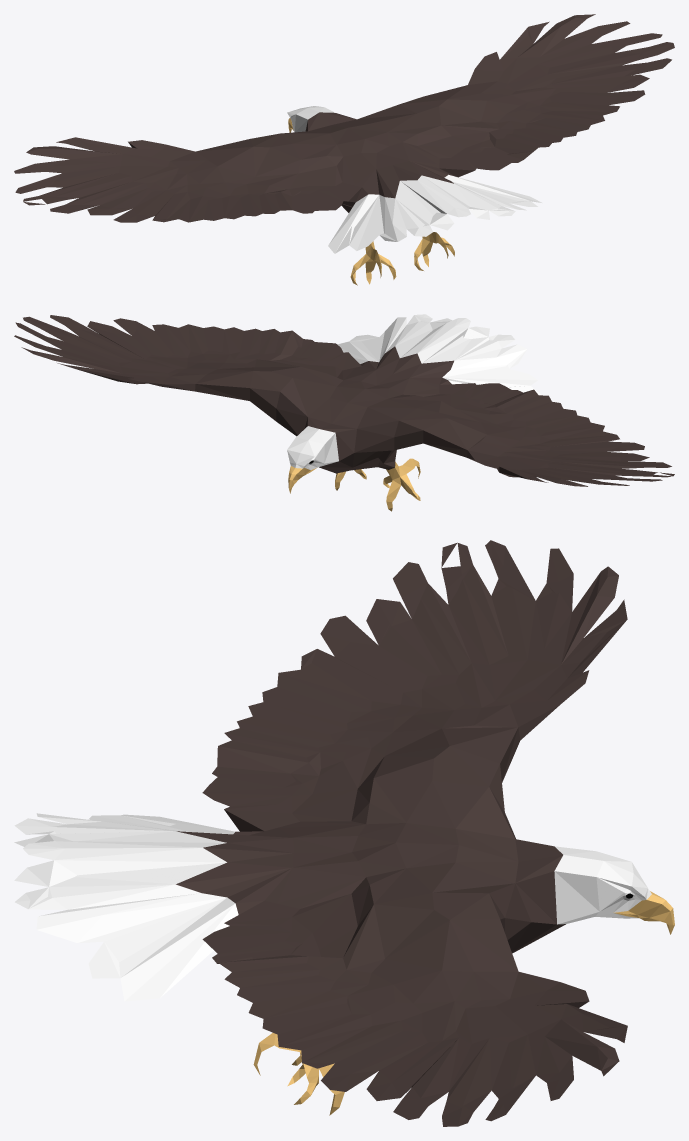
File: adlerFootOut06.dae
3 views of the same model, one above another, from view 1: azimuth 30°, elevation 25°; view 2: azimuth 150°, elevation 25°; view 3: azimuth 270°, elevation 25° (orthographic). The views are drawn at different scales.
Visible parts, largest first — view 1: SketchUp (×5); view 2: SketchUp (×4); view 3: SketchUp (×5).
Boxes of the visible parts, box(x1,y1,x2,y2) form: SketchUp (×5): box(15, 14, 674, 285); SketchUp (×4): box(15, 314, 672, 511); SketchUp (×5): box(14, 540, 674, 1126).
Bounding box in the file's own units: 1475 × 706 × 314.
